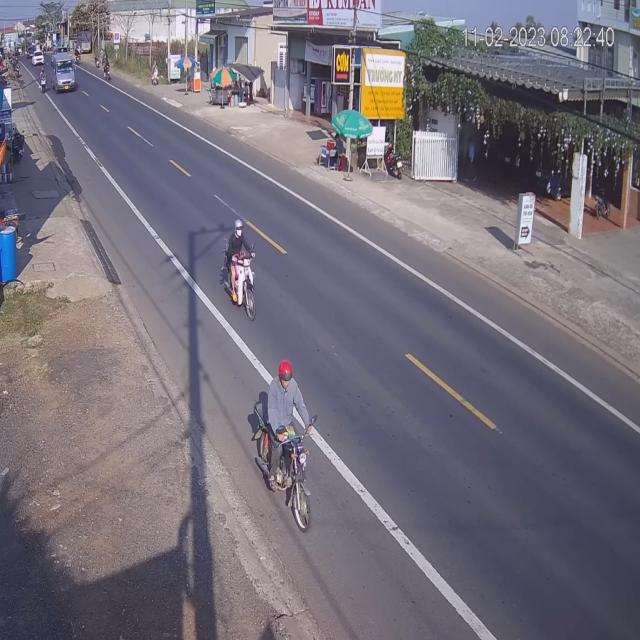bus: (50, 54, 77, 94)
car: (32, 53, 46, 69)
motorbike: (251, 362, 314, 494), (223, 218, 256, 320)
